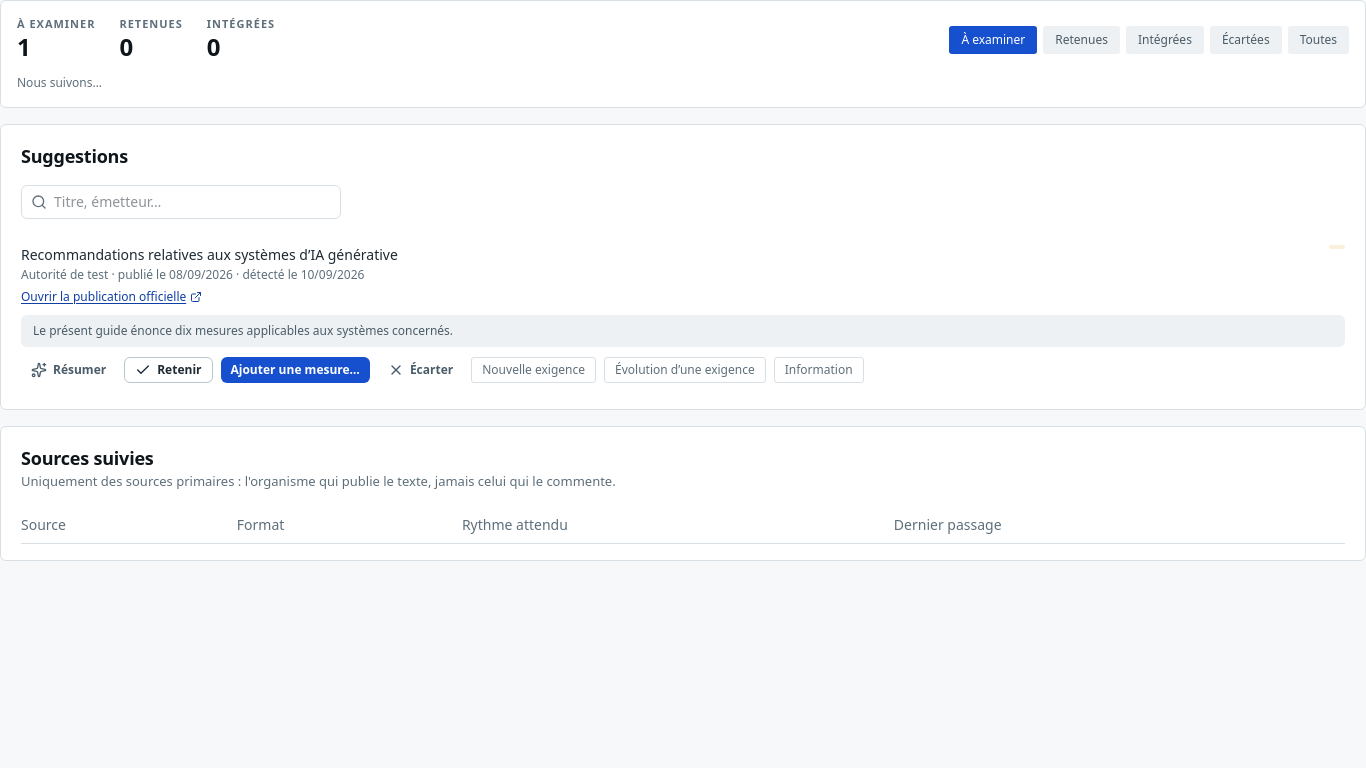
Test: WatchPanel › refuse d’ajouter une mesure tant que le contenu n’est pas rédigé
This screenshot has width=1366, height=768.
Step 1. Click the button "Ajouter une mesure…" → (295, 370), box [220,357,370,383]
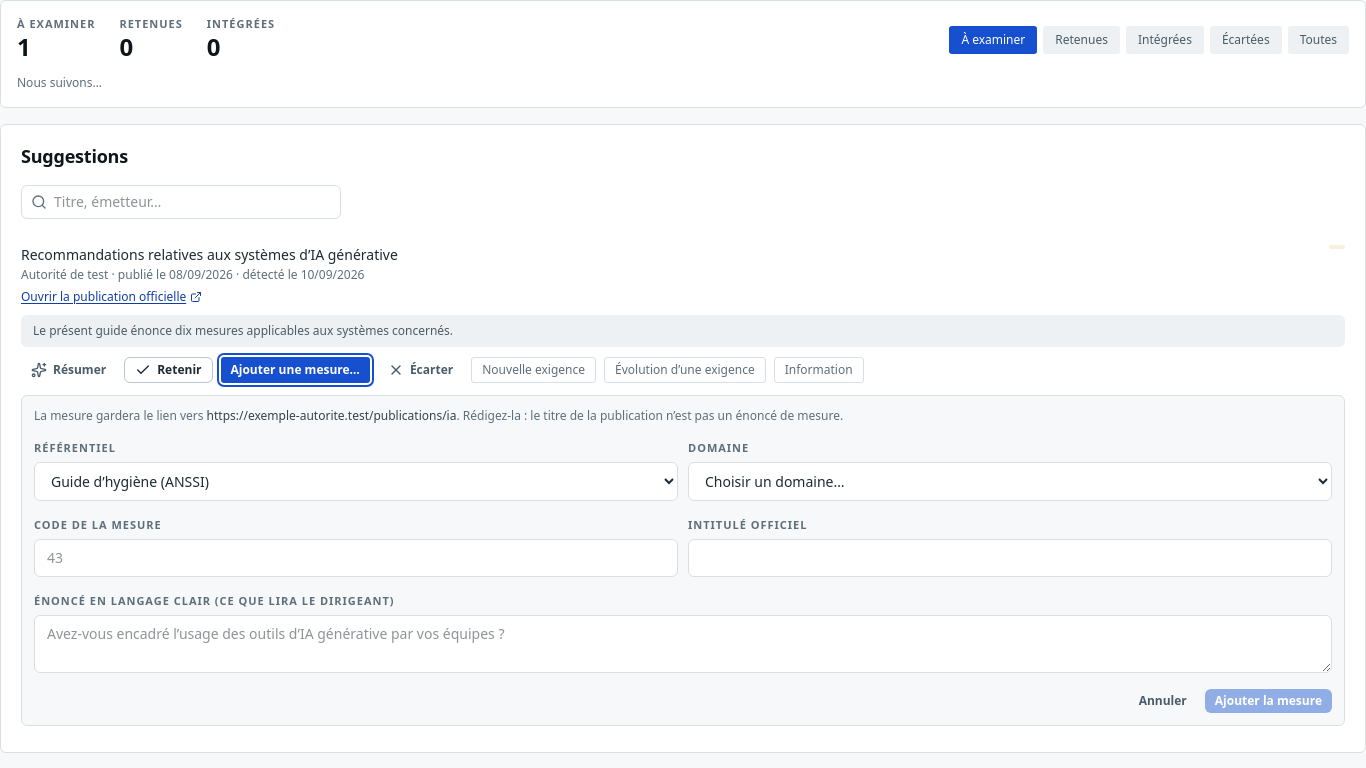
Check: the button "Ajouter la mesure" is disabled, box [1205,689,1332,713]
